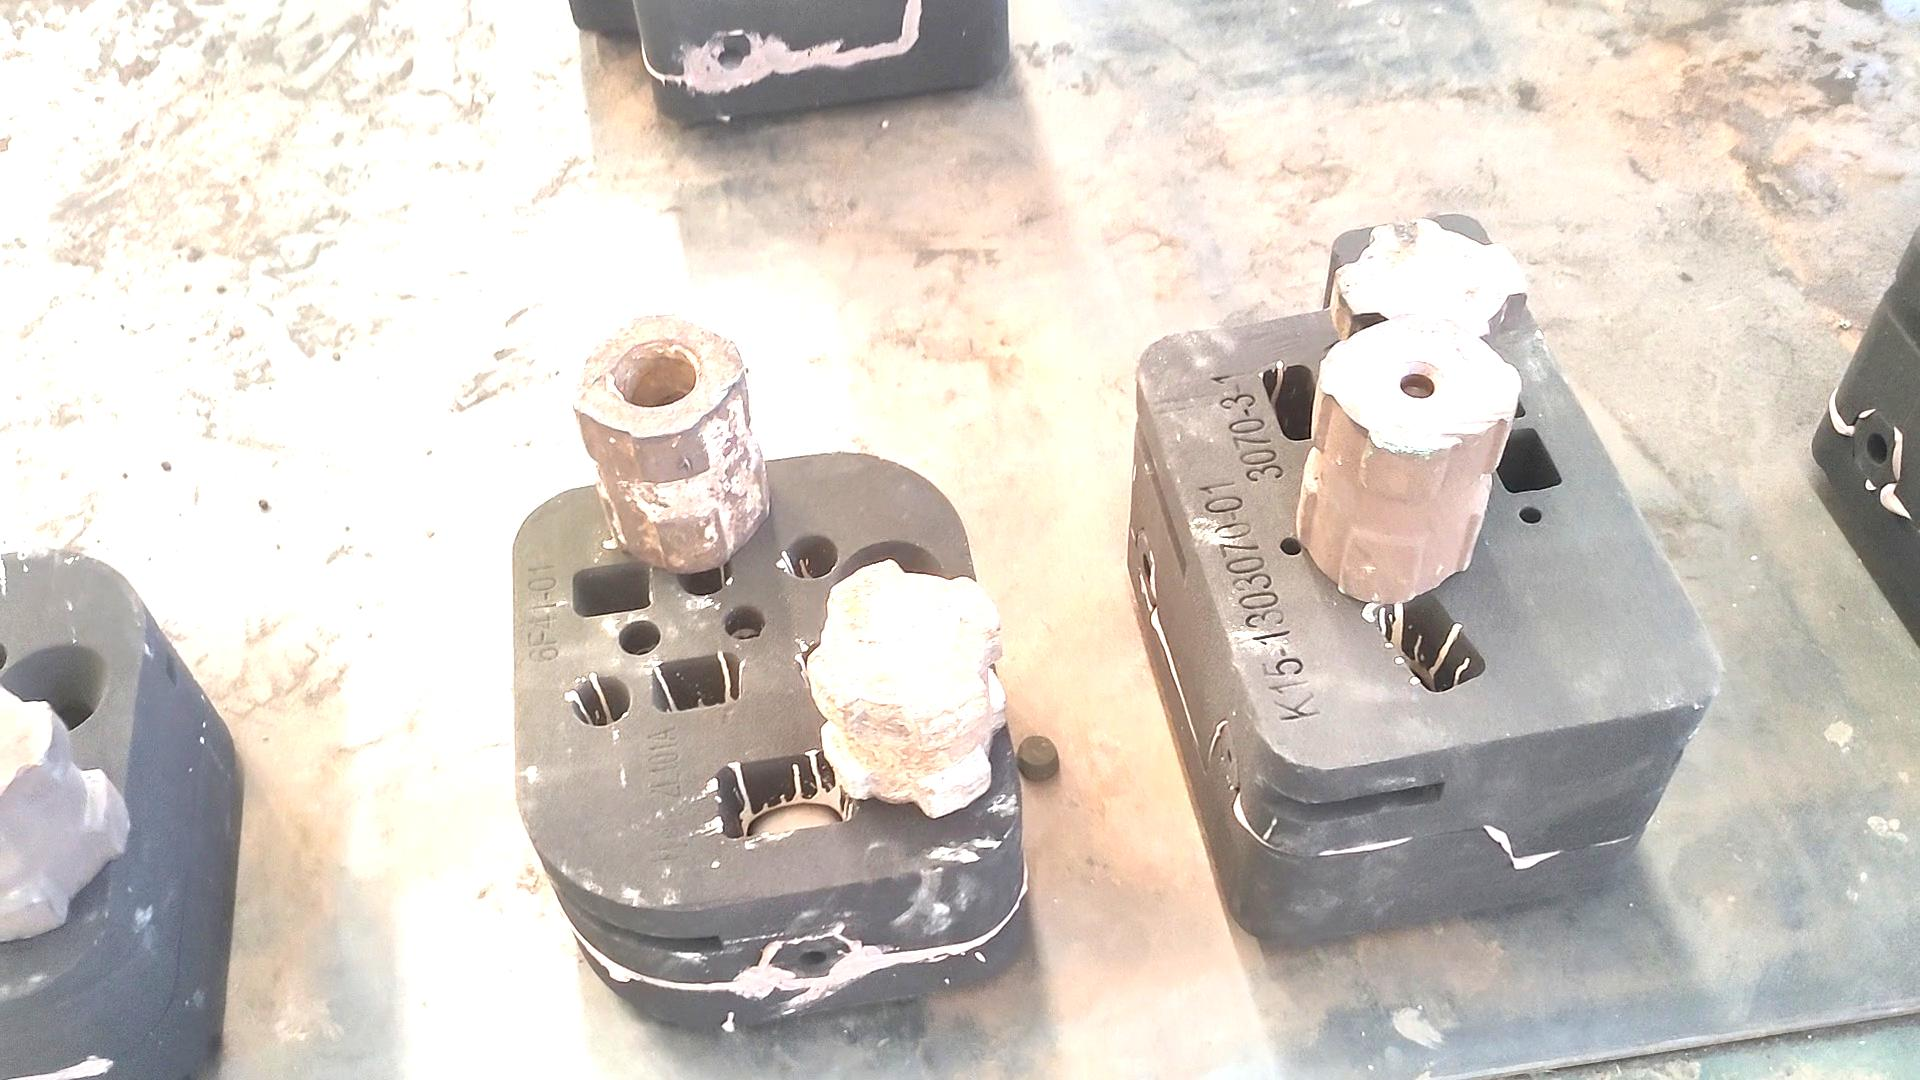pouring hole: (828, 539, 953, 628), (1, 644, 107, 740), (1371, 237, 1482, 315)
